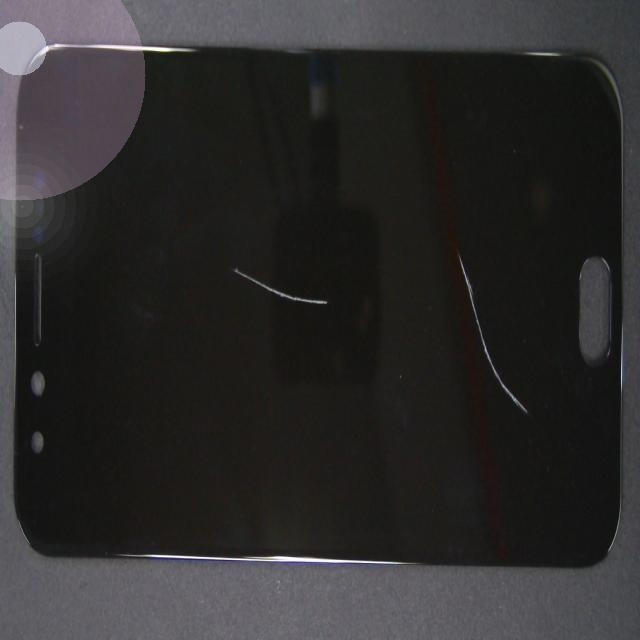scratch: (262, 236, 640, 640), (220, 168, 453, 417)
